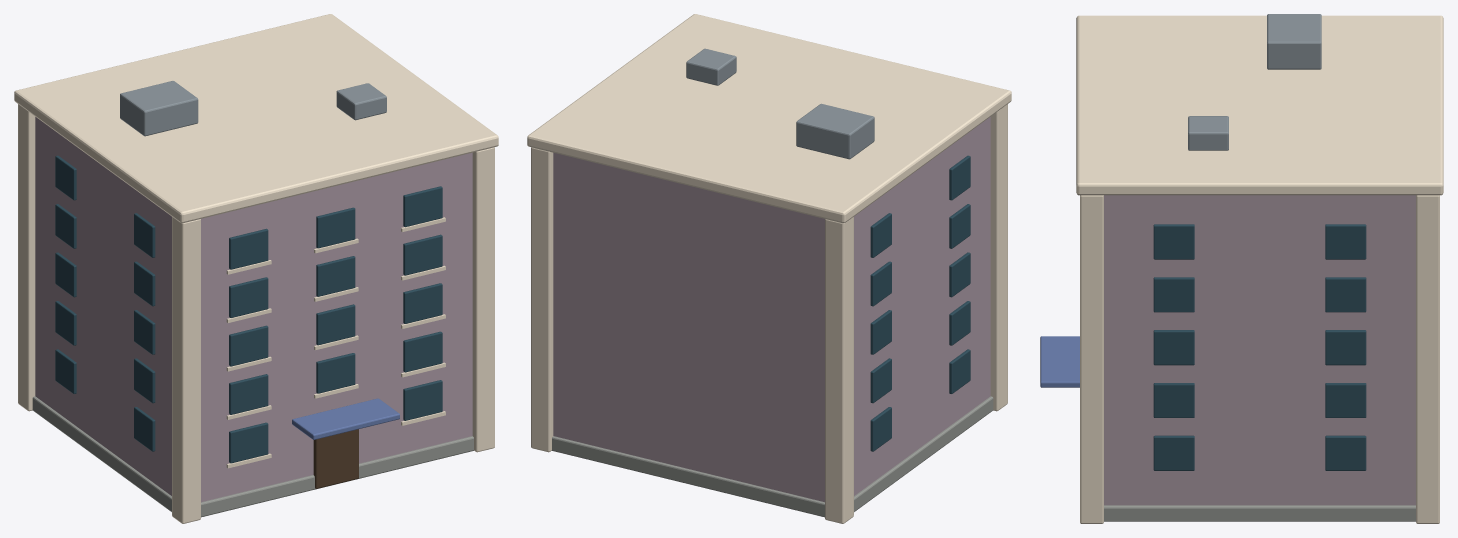
File: building_3.glb
3 views of the same model, side by side, from view 1: azimuth 30°, elevation 25°; view 2: azimuth 150°, elevation 25°; view 3: azimuth 270°, elevation 25° (orthographic). The views are drawn at different scales.
Visible parts, largest first — view 1: Cube; view 2: Cube; view 3: Cube.
Part boxes in pixels (left/top/right/bottom): Cube: left=14, top=14, right=498, bottom=523; Cube: left=527, top=14, right=1011, bottom=523; Cube: left=1040, top=14, right=1443, bottom=523.
Size of the model in its own units: 11.7 by 11.9 by 11.75.
